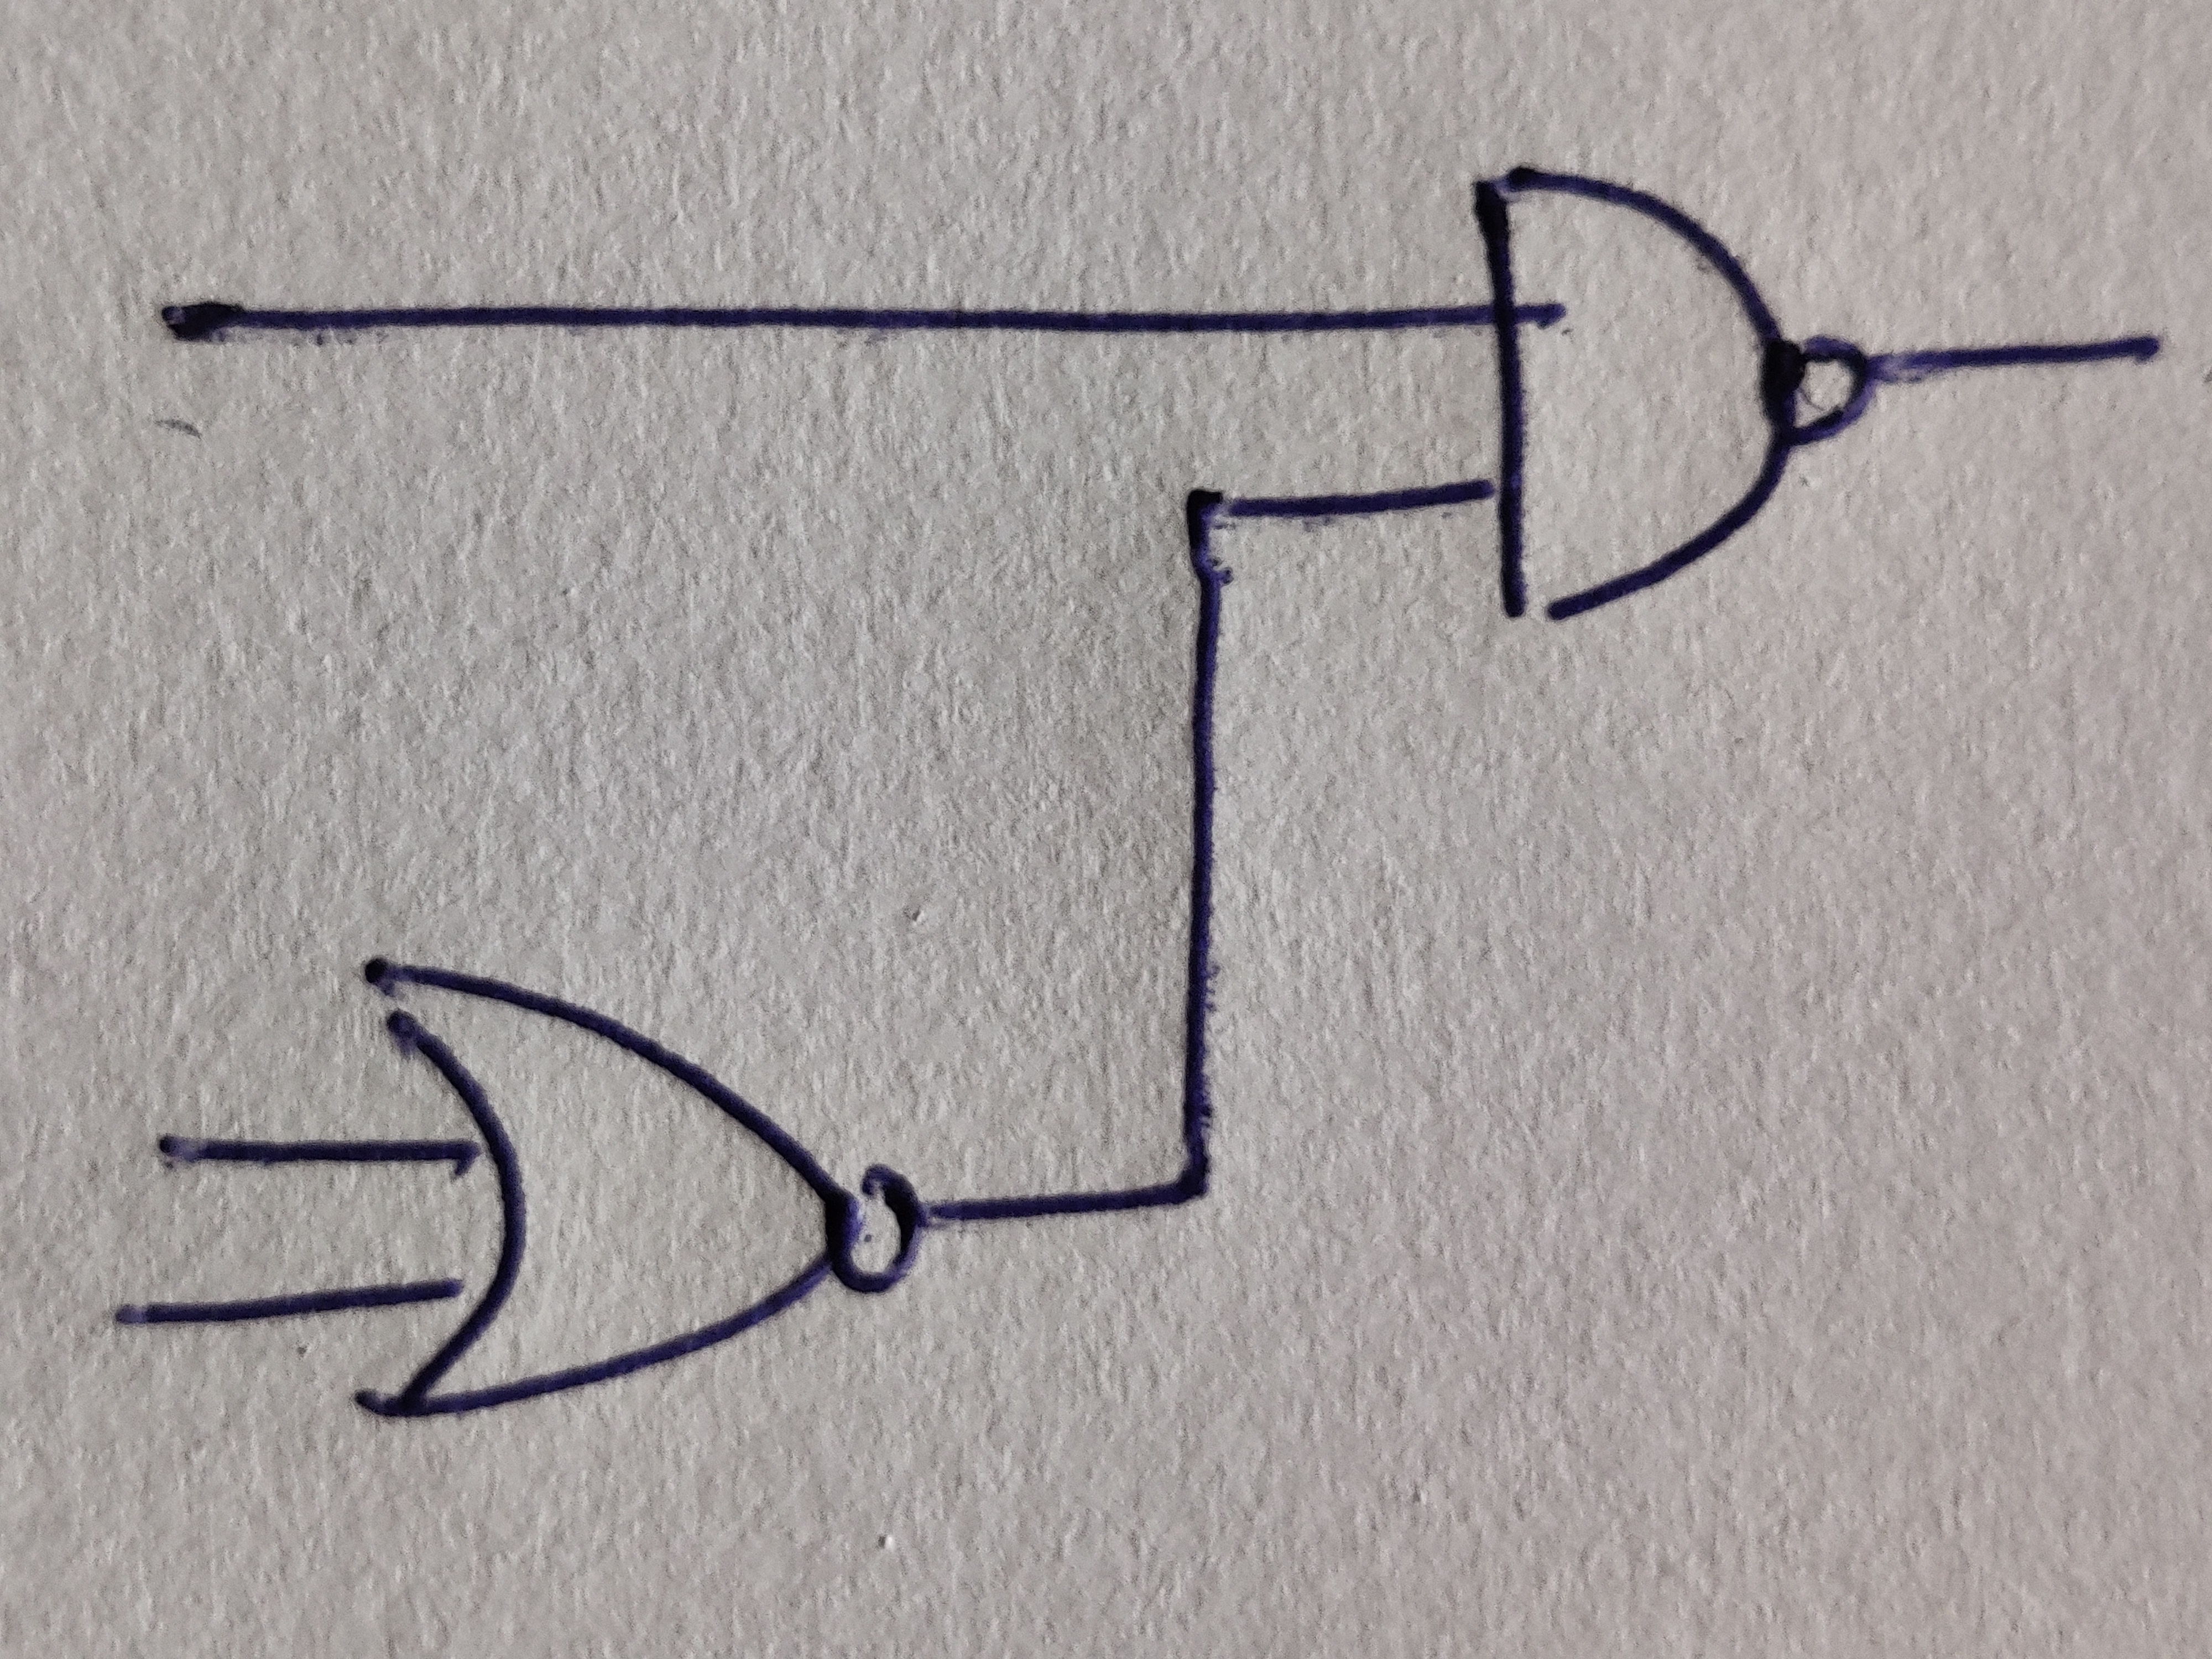and: (1477, 166, 1794, 619)
not: (1763, 335, 1871, 444), (829, 1168, 920, 1293)
or: (354, 960, 838, 1420)
